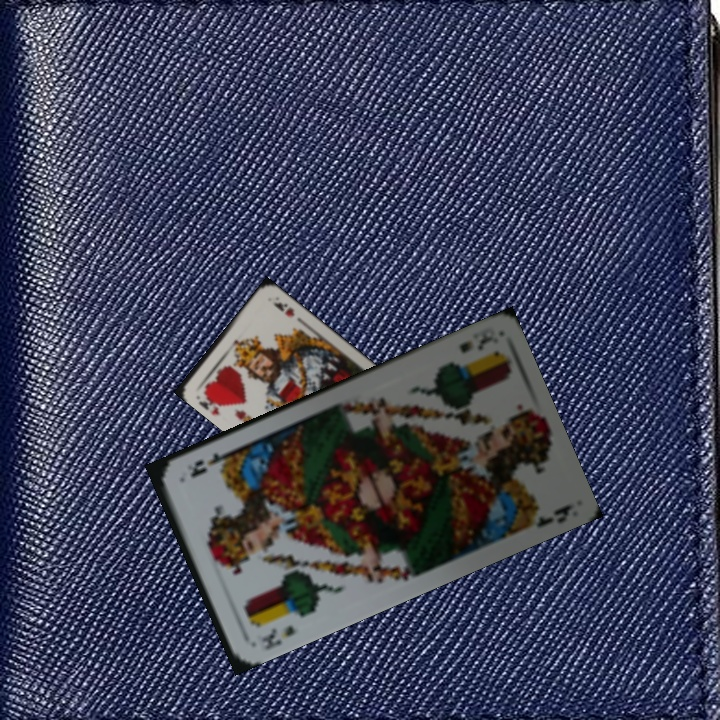EK: (258, 621, 298, 653), (455, 327, 497, 356)
HK: (195, 387, 227, 418)
